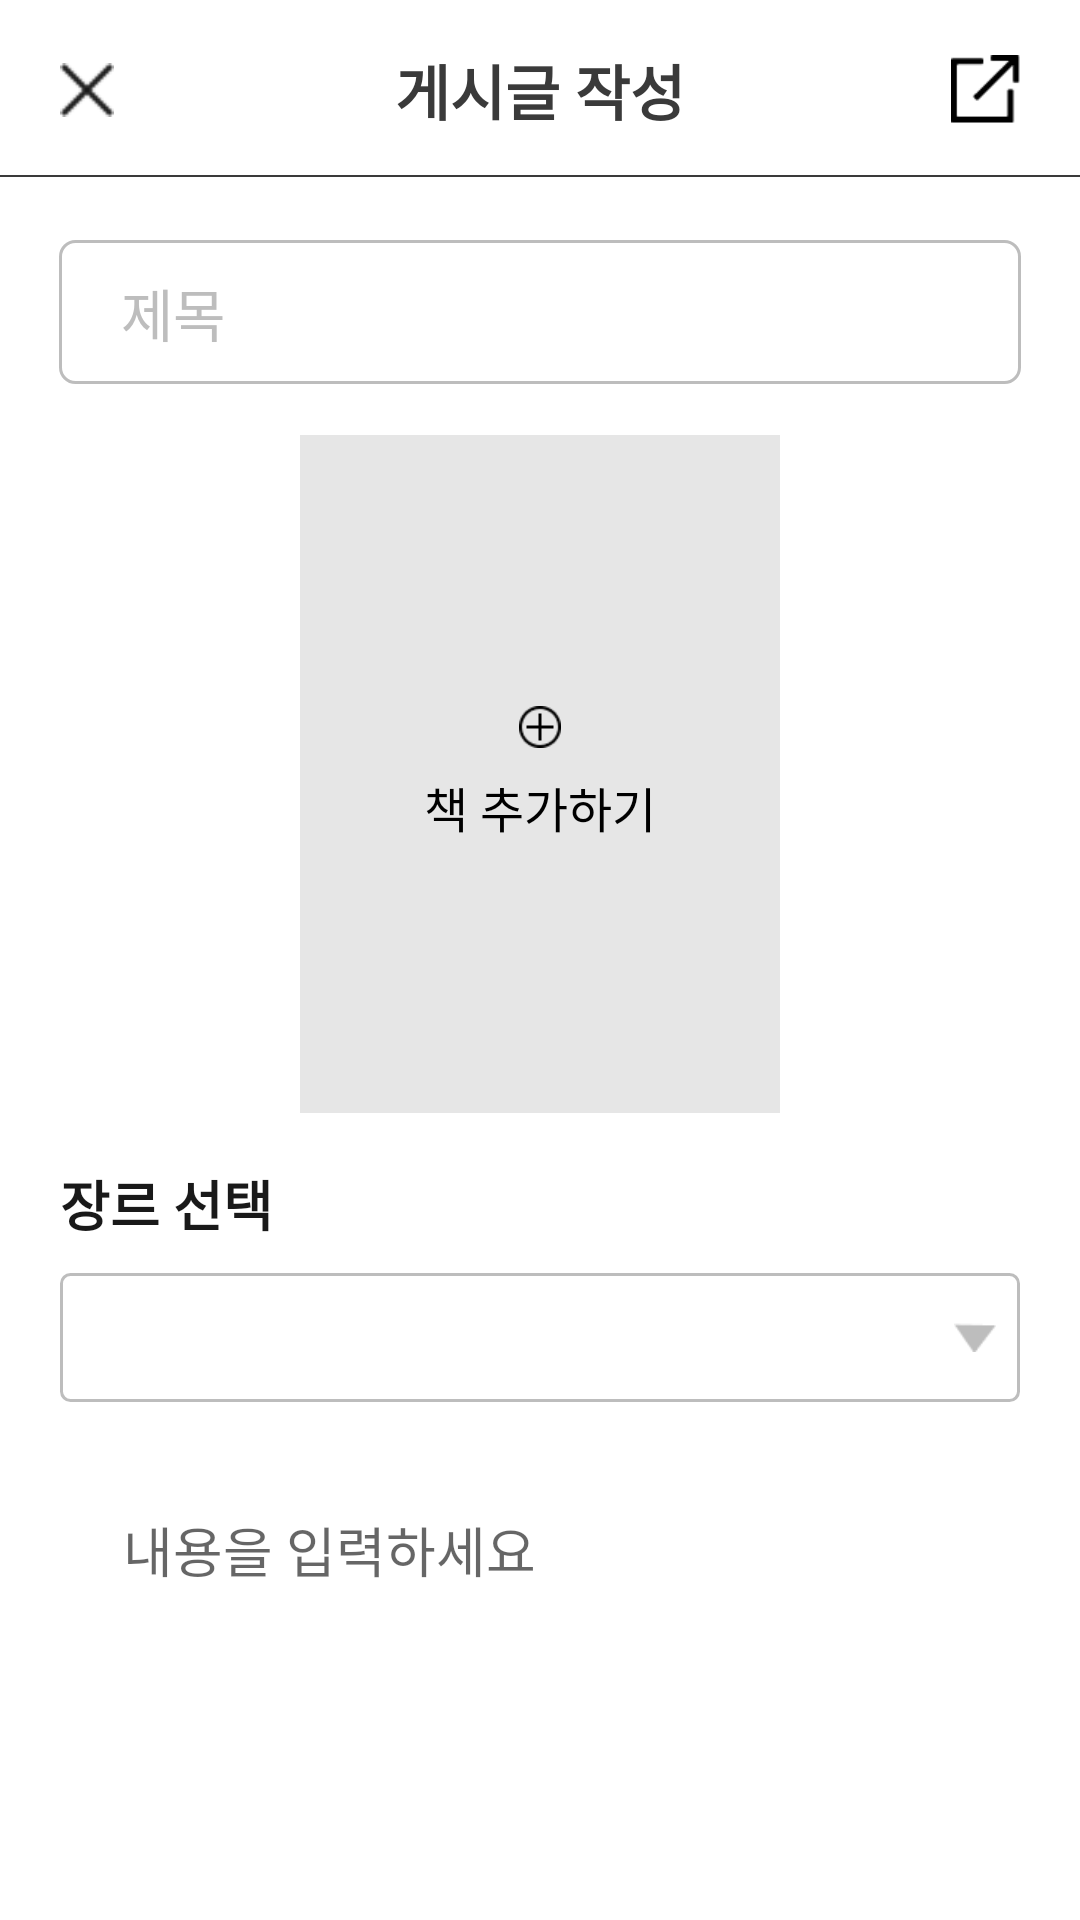

Where to tap for icons on this 1080 × 1920 app screen, as [x,y]:
close: [87,90]
